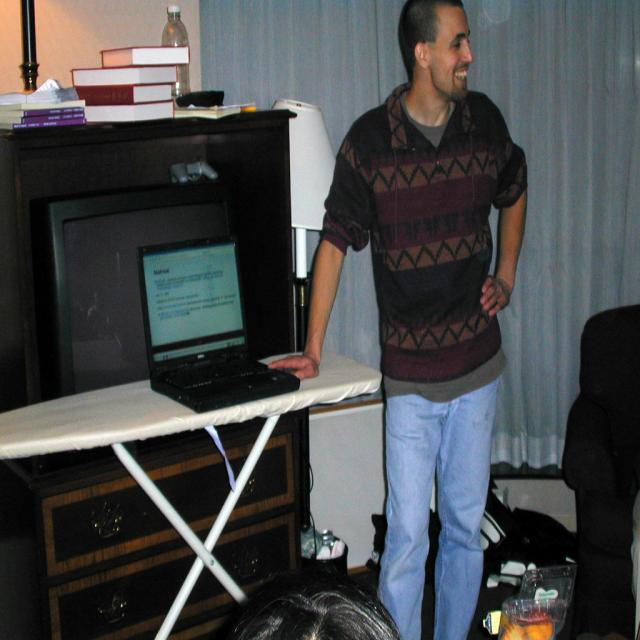desk: (2, 318, 390, 619)
laptop: (136, 235, 302, 416)
person: (268, 1, 529, 640), (219, 569, 404, 639)
tv: (27, 184, 237, 399)
